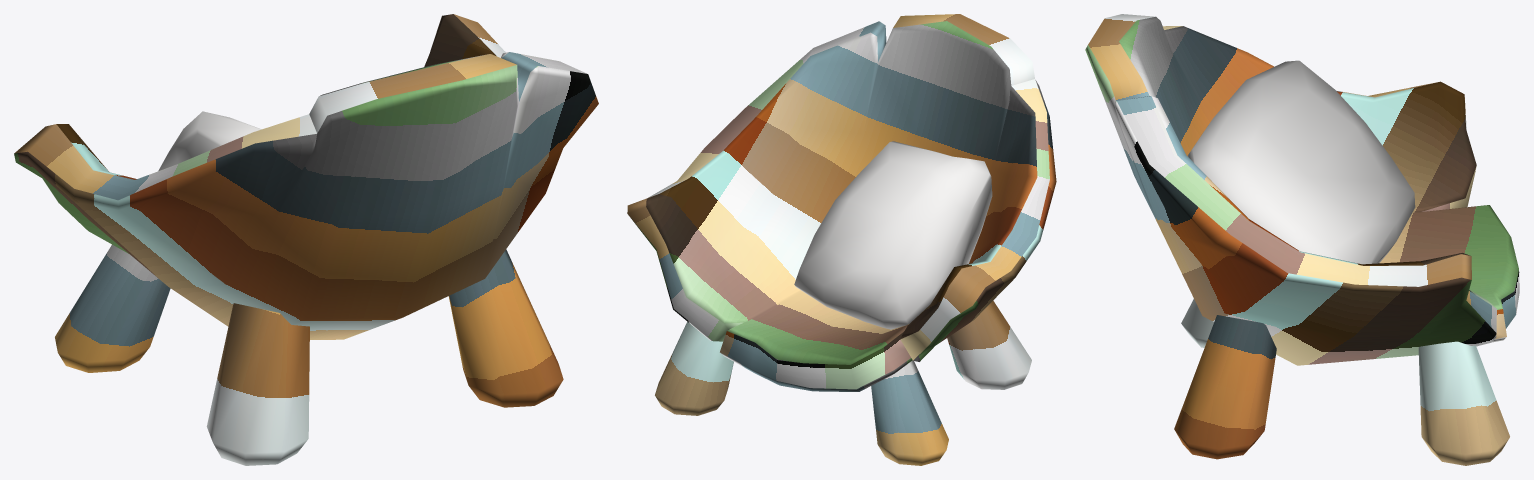
File: P_AP22Chair.glb
The picture shows the model from 3 angles, left to right: view 1: azimuth 30°, elevation 25°; view 2: azimuth 150°, elevation 25°; view 3: azimuth 270°, elevation 25°; orthographic projection. The views are drawn at different scales.
Visible parts, largest first — view 1: P_AP22Chair; view 2: P_AP22Chair; view 3: P_AP22Chair.
Part boxes in pixels (x1,y1,x2,y2): P_AP22Chair: (14,14,598,465); P_AP22Chair: (627,14,1056,465); P_AP22Chair: (1085,14,1519,465).
Bounding box in the file's own units: 0.895 × 0.7319 × 0.8262.
Materials: 1 (1 with a texture image).
